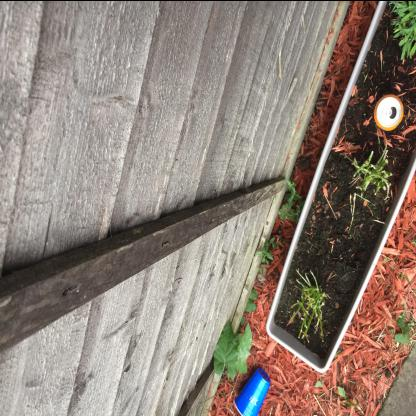metal: (374, 93, 404, 130)
plastik: (234, 366, 272, 415)
